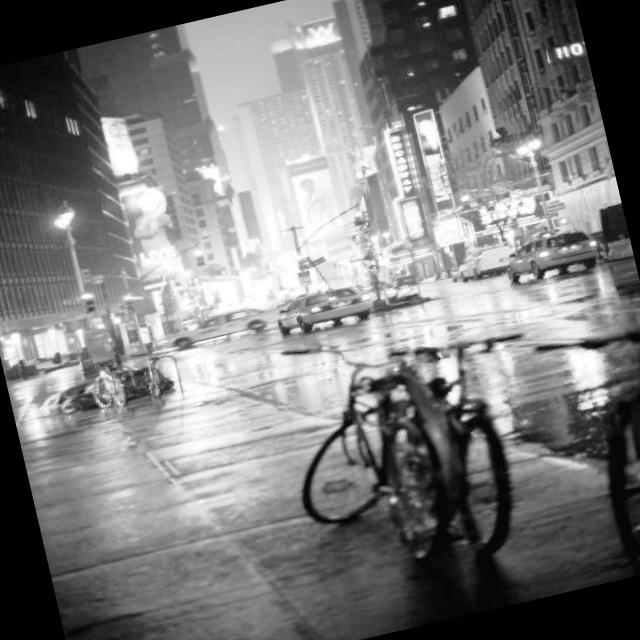Bicycle: (274, 318, 568, 591), (569, 320, 640, 573)
